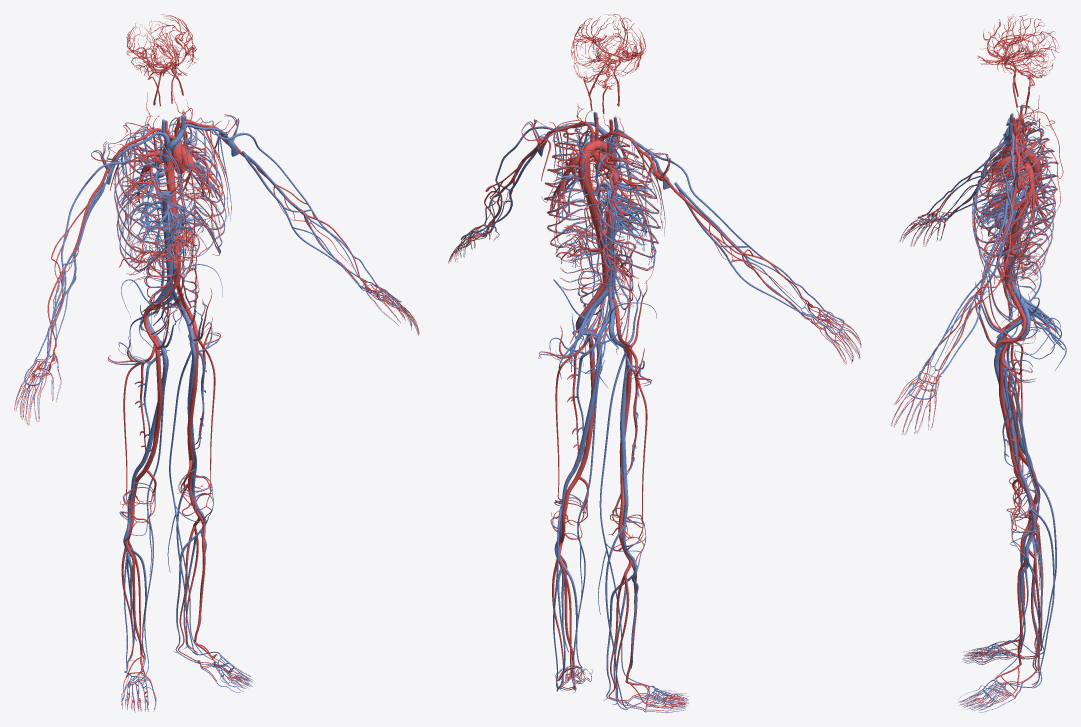
Rendered from vessels.glb.
The picture shows the model from 3 angles, left to right: view 1: azimuth 30°, elevation 25°; view 2: azimuth 150°, elevation 25°; view 3: azimuth 270°, elevation 25°; orthographic projection. The views are drawn at different scales.
Parts seen in each view (by area): view 1: artery, vein; view 2: artery, vein; view 3: artery, vein.
Part boxes in pixels (x1,y1,x2,y2): artery: (14,14,419,710); vein: (15,115,418,712); artery: (448,14,861,711); vein: (449,112,860,712); artery: (890,14,1063,710); vein: (891,105,1066,712).
Size of the model in its own units: 994 by 1625 by 392.
